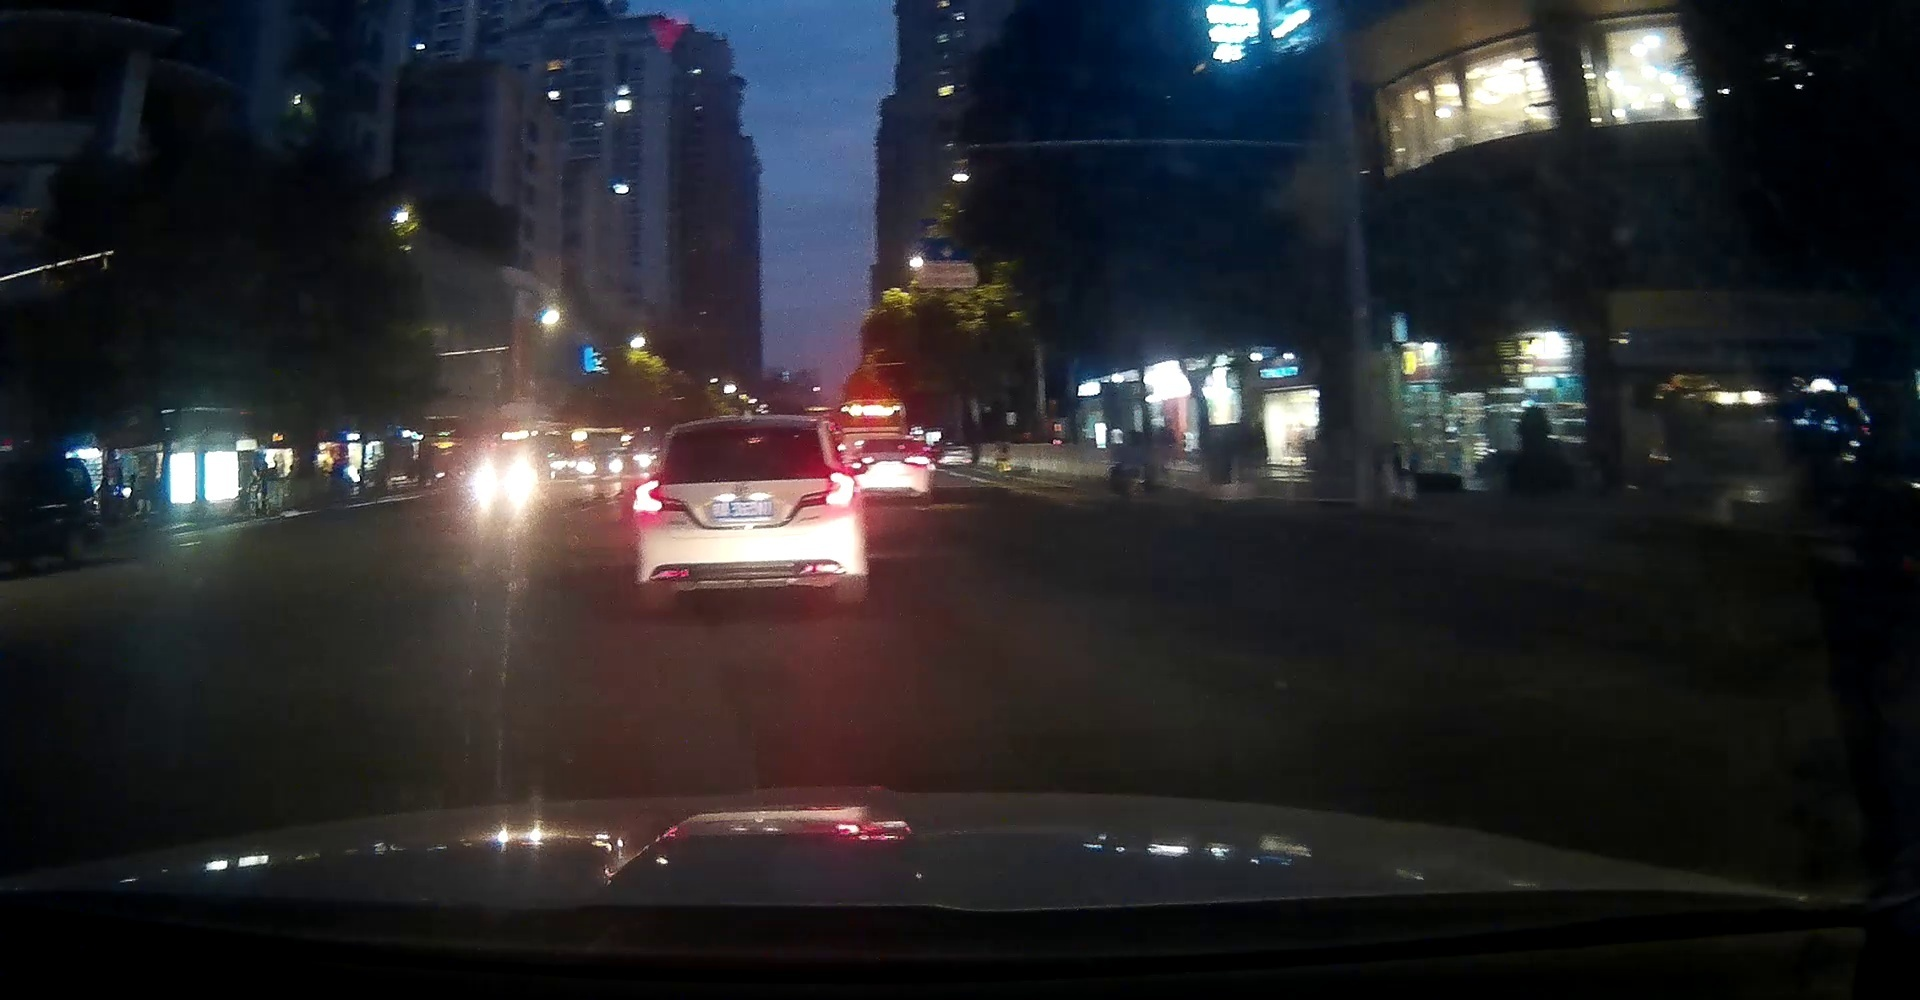L_light: (631, 478, 687, 513)
R_light: (796, 472, 855, 508)
T_light: (731, 428, 759, 434)
night-no: (631, 414, 869, 613)
